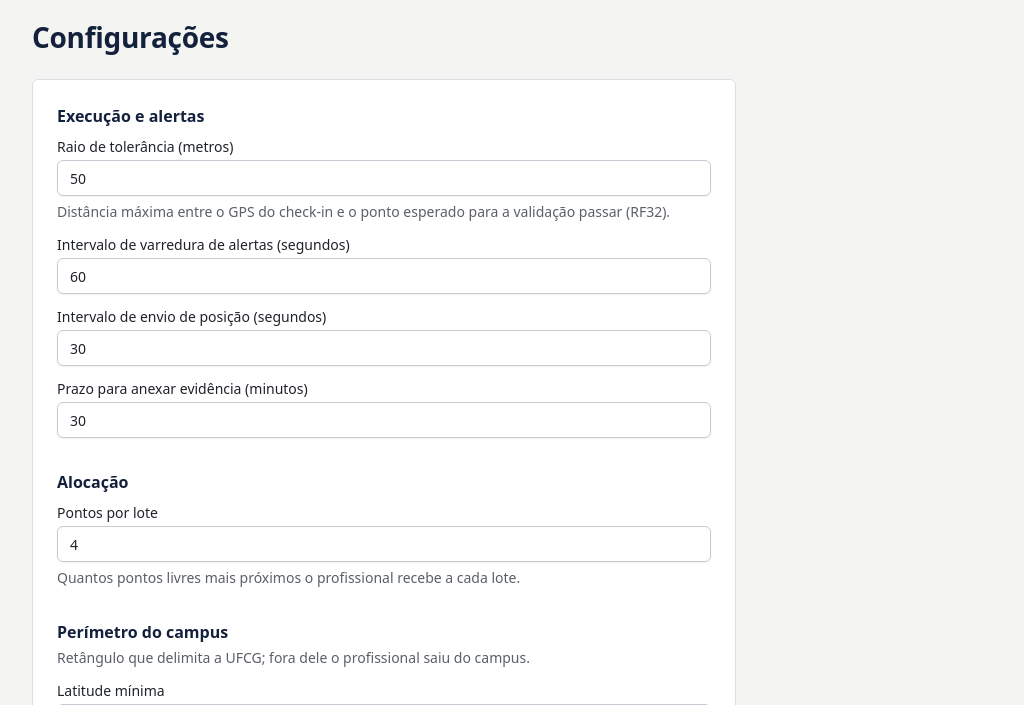
Test: SettingsPage › saves every value, shows a success status and invalidates the settings query
This screenshot has width=1024, height=705.
Replace the text in the number field labelled "Pontos por lote" with "6" at (384,544), box [57,526,711,562]
(page scrolled)
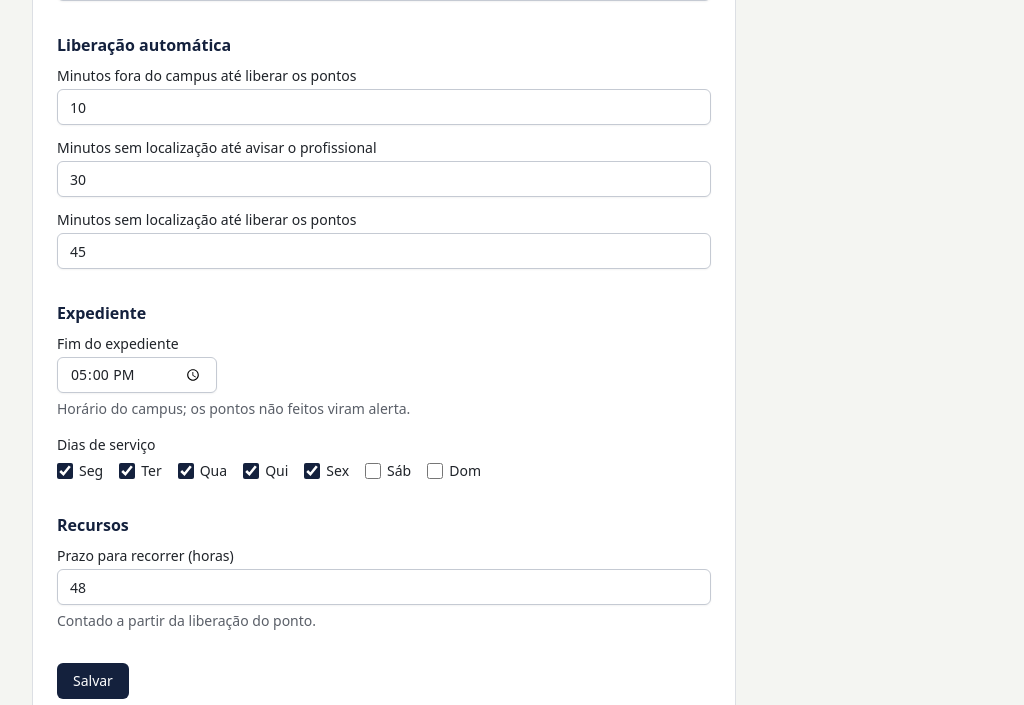
Click the checkbox labelled "Sex" at (312,471), box [304,463,320,479]
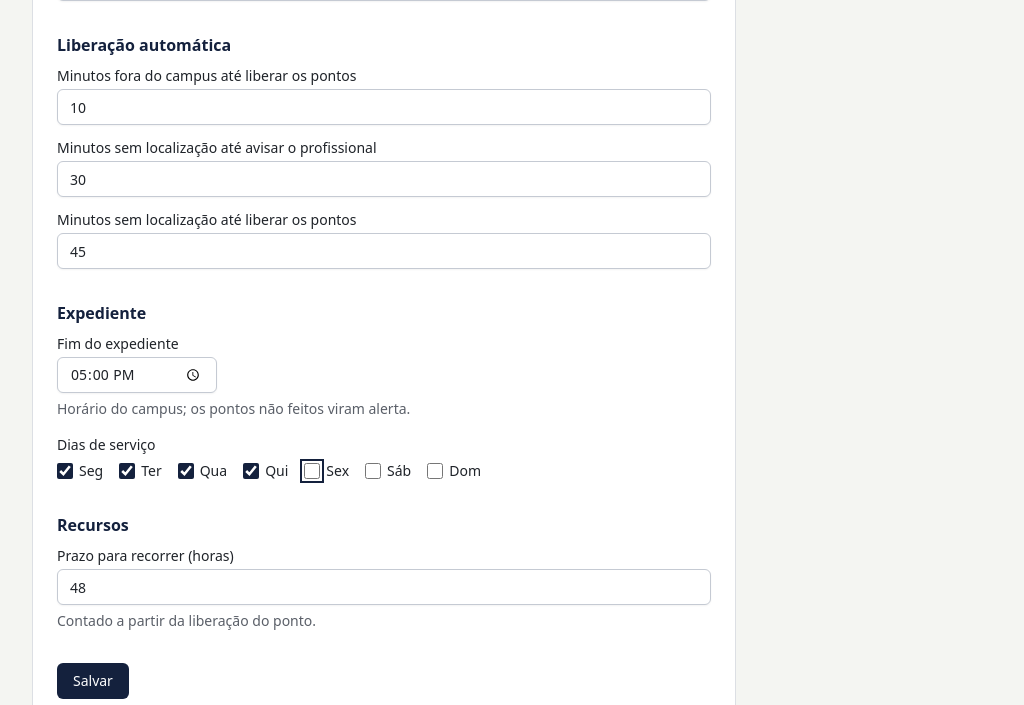
Click the checkbox labelled "Sáb" at (373,471), box [365,463,381,479]
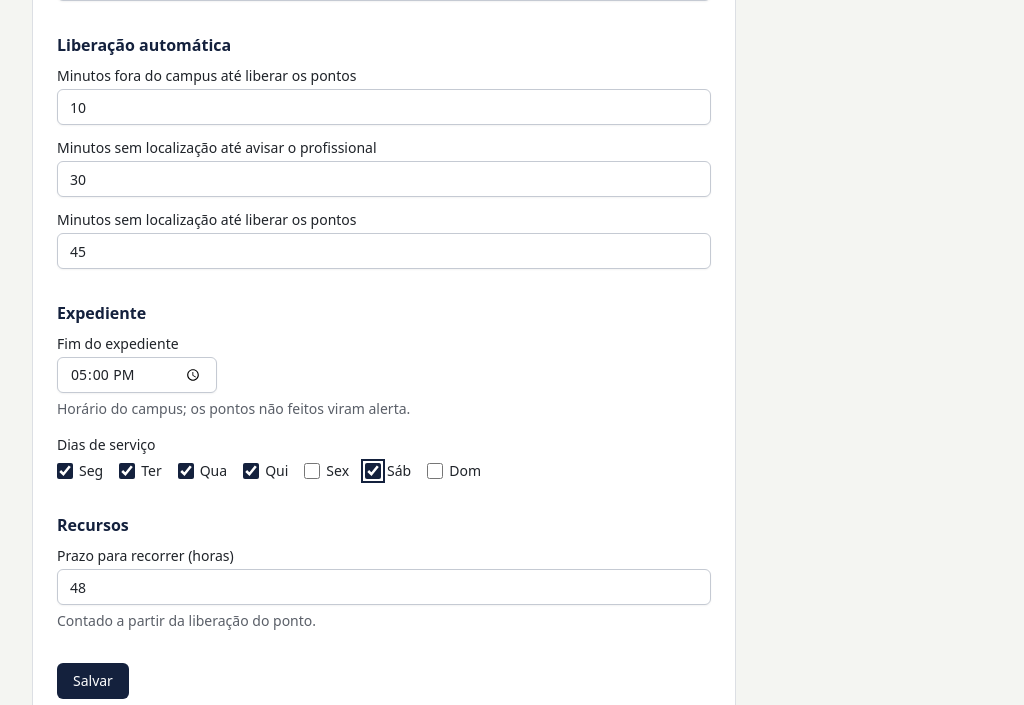
Click the button "Salvar" at (93,681), box [57,663,129,699]
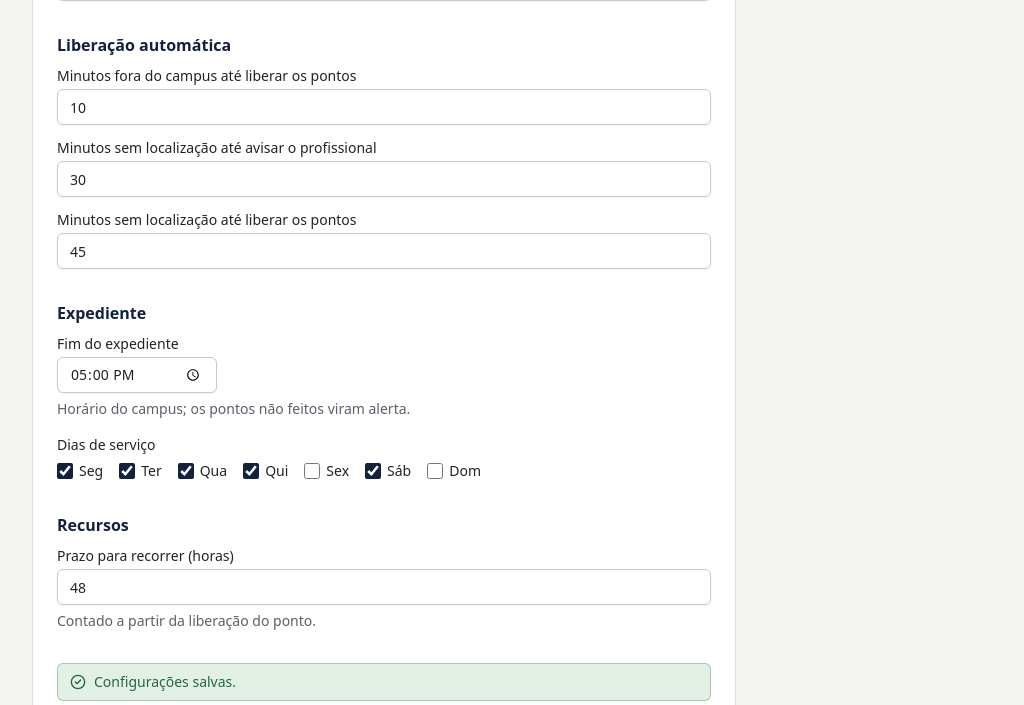
Expected: the message reads "Configurações salvas.", [94,672,236,691]
